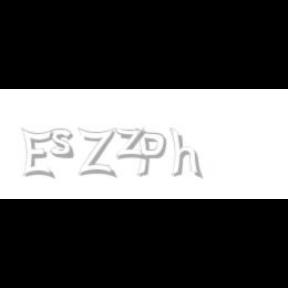E: (22, 128, 54, 180)
P: (135, 128, 167, 178)
Z: (78, 128, 114, 178)
h: (170, 128, 204, 180)
s: (50, 128, 78, 160)
z: (114, 128, 150, 160)
